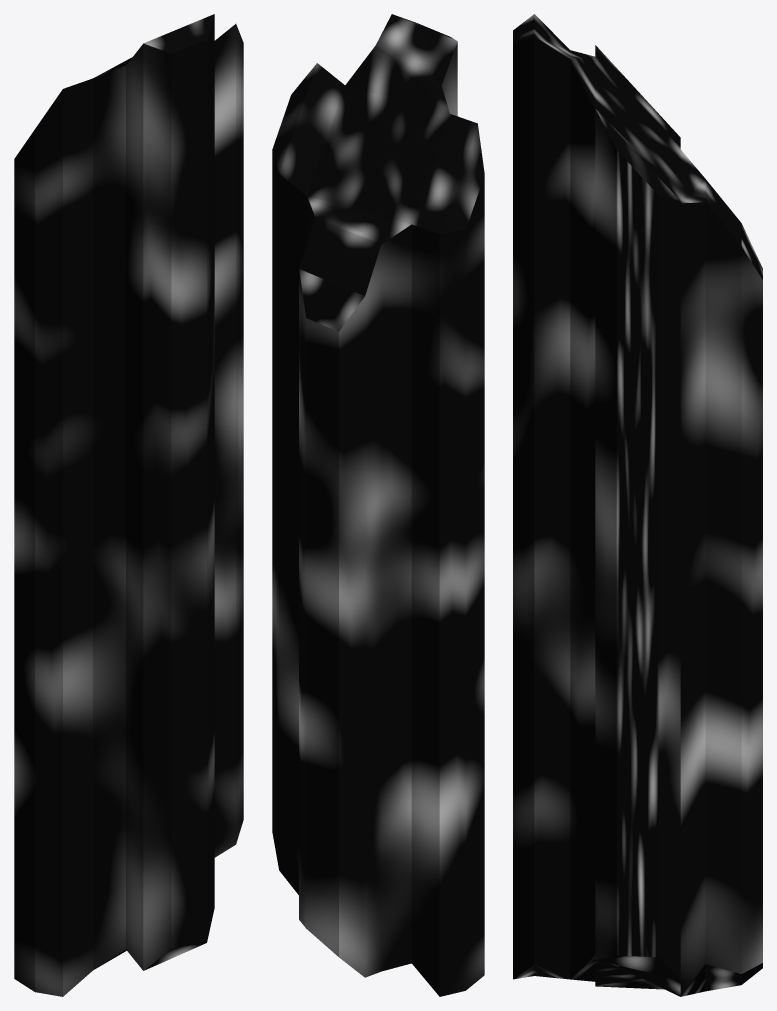
File: BrokenPillarMid.fbx
3 renders of one model, left to right at view 1: azimuth 30°, elevation 25°; view 2: azimuth 150°, elevation 25°; view 3: azimuth 270°, elevation 25°, orthographic. The views are drawn at different scales.
Parts seen in each view (by area): view 1: BrokenPillarMid; view 2: BrokenPillarMid; view 3: BrokenPillarMid.
Part boxes in pixels (x1,y1,x2,y2): BrokenPillarMid: (14, 14, 243, 996); BrokenPillarMid: (272, 14, 484, 996); BrokenPillarMid: (513, 14, 762, 996).
Size of the model in its own units: 0.8207 by 3.68 by 0.8205.
